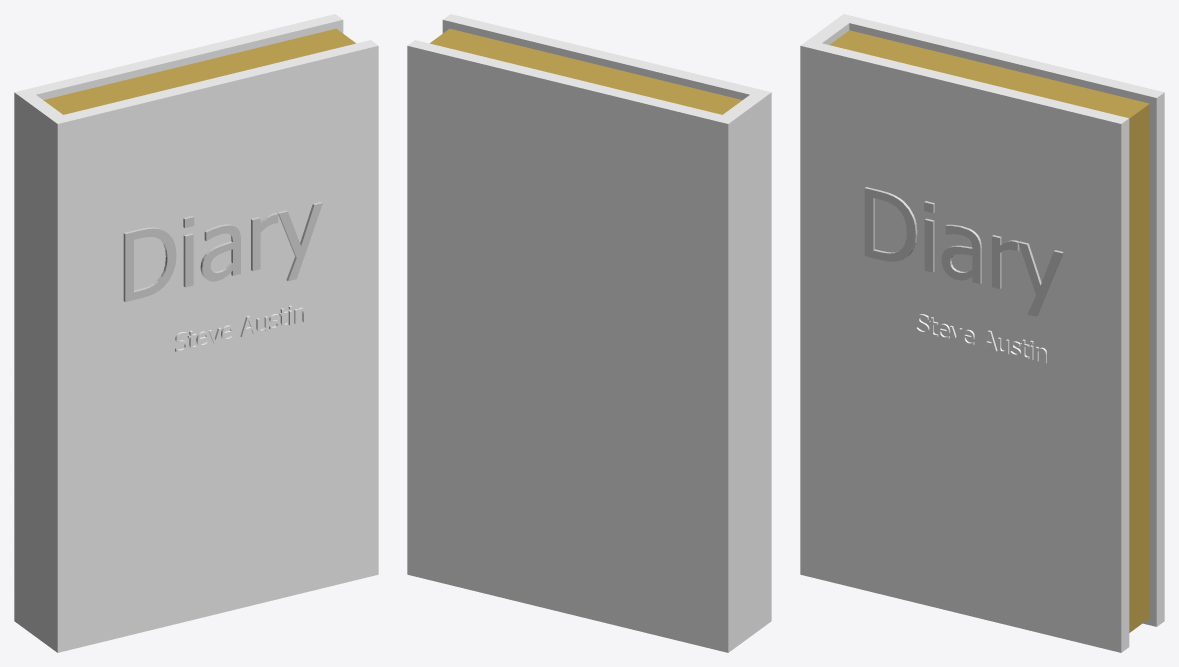
3 renders of one model, left to right at view 1: azimuth 30°, elevation 25°; view 2: azimuth 150°, elevation 25°; view 3: azimuth 330°, elevation 25°, orthographic.
Parts seen in each view (by area): view 1: book; view 2: book; view 3: book.
Part boxes in pixels (x1,y1,x2,y2): book: (14,14,378,652); book: (407,14,771,652); book: (800,14,1164,652).
Size of the model in its own units: 18.5 by 29.13 by 4.5.
